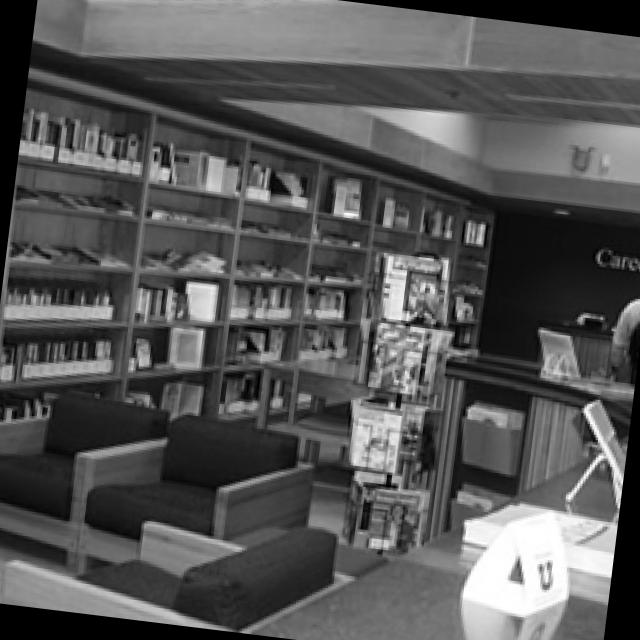armchair of dentist: (73, 407, 310, 572), (0, 517, 334, 625), (0, 384, 168, 569)
books crop: (26, 105, 139, 169), (161, 133, 235, 191), (227, 279, 292, 316), (129, 279, 187, 319)
ceiling beam: (30, 0, 640, 226)
desk calendar: (423, 346, 630, 524)
display stand: (334, 250, 455, 546)
floor -X: (0, 381, 624, 628)
staircase: (0, 56, 493, 472)
stand clothes: (247, 435, 621, 640)
table runner: (253, 351, 445, 424)
wall clock: (476, 205, 640, 374)
